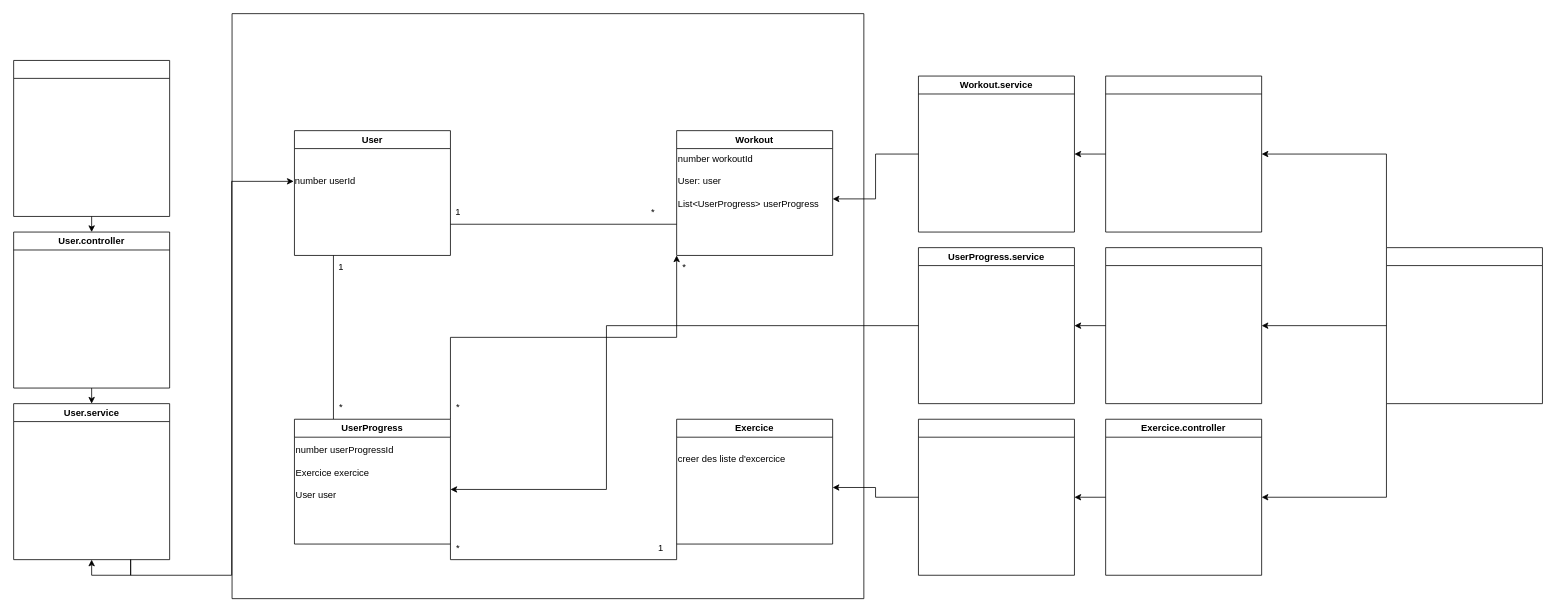
The diagram is 1556 pixels wide and 612 high, and some of its shapes have lost their labels. Each missing label, with the box of its shape:
Exercice.service: (918, 418, 1074, 575)
training.module: (1386, 247, 1542, 404)
User.module: (13, 60, 170, 216)
UserProgress.controller: (1105, 247, 1262, 404)
Workout.controller: (1105, 75, 1262, 232)
